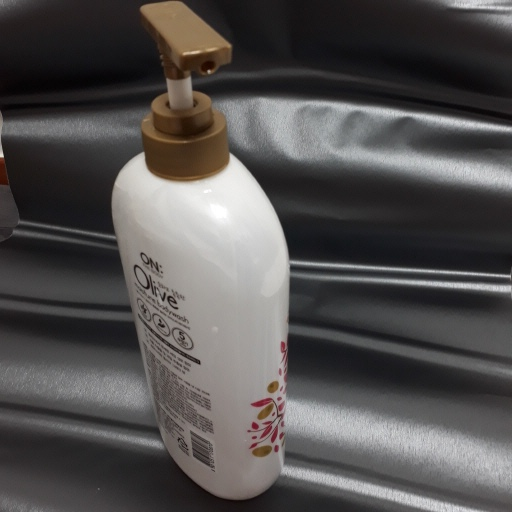Plastic_3: (110, 3, 293, 501)
